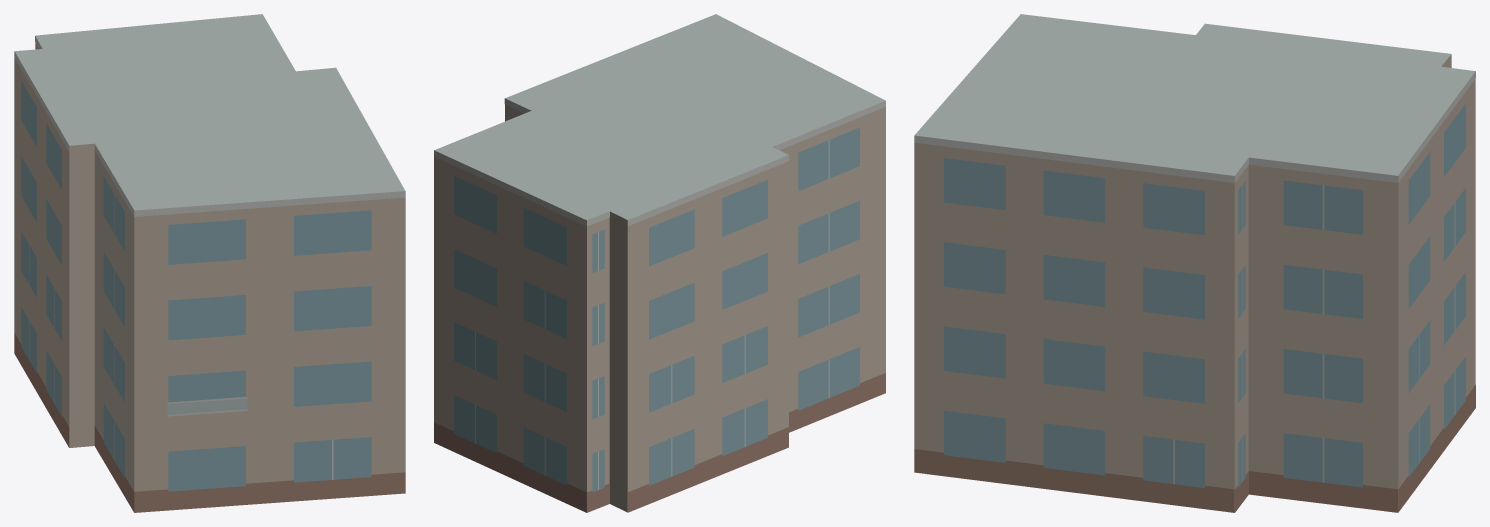
Rendered from survey-upis-32948997.glb.
3 renders of one model, left to right at view 1: azimuth 30°, elevation 25°; view 2: azimuth 150°, elevation 25°; view 3: azimuth 270°, elevation 25°, orthographic. The views are drawn at different scales.
Parts seen in each view (by area): view 1: survey-upis-32948997.tmp; view 2: survey-upis-32948997.tmp; view 3: survey-upis-32948997.tmp.
Boxes of the visible parts, box(x1,y1,x2,y2) form: survey-upis-32948997.tmp: box(14, 14, 405, 512); survey-upis-32948997.tmp: box(434, 14, 885, 512); survey-upis-32948997.tmp: box(914, 14, 1475, 512).
Size of the model in its own units: 11.92 by 11.56 by 17.47.
